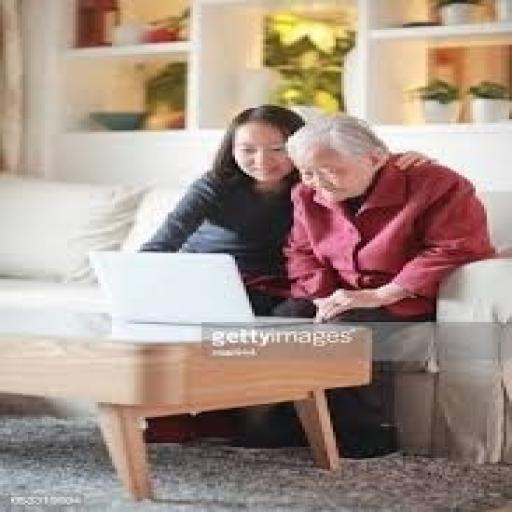using_laptop: (84, 248, 316, 328)
